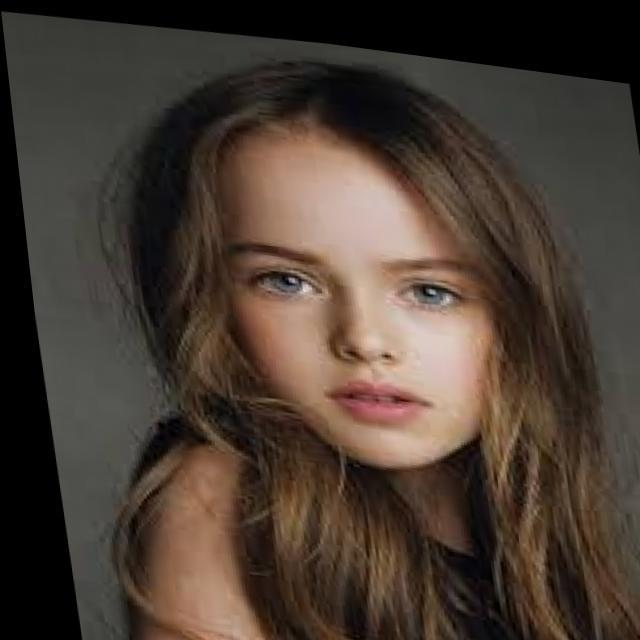Nonhelmet: (139, 79, 559, 488)
